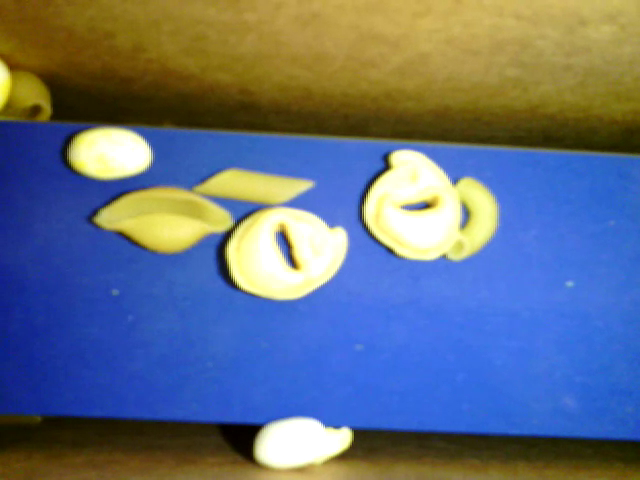elbow: (445, 174, 501, 264)
penne: (191, 165, 318, 207)
shell: (92, 183, 236, 256), (1, 70, 54, 125)
tortellini: (214, 206, 351, 301), (357, 147, 464, 262)
